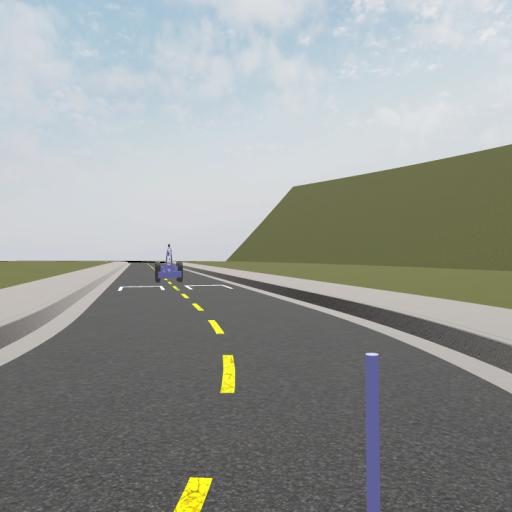ERP-42: (155, 243, 186, 283)
